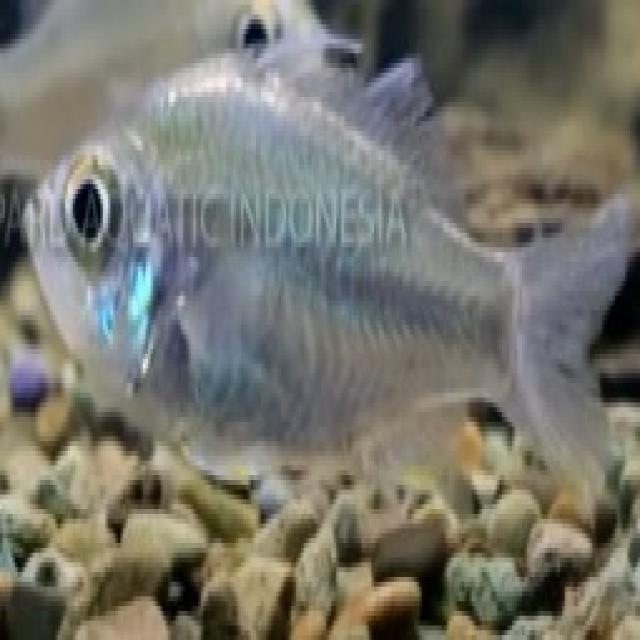Glass-Perchlet: (5, 0, 640, 490)
